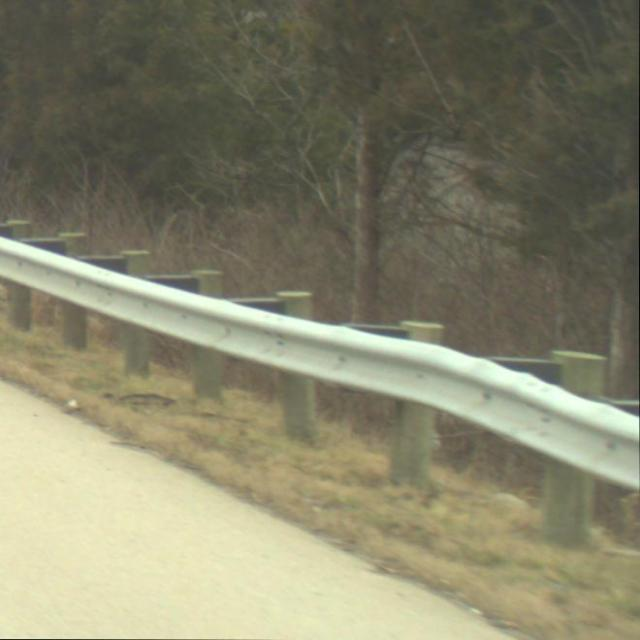Guard rail: (0, 215, 640, 572)
